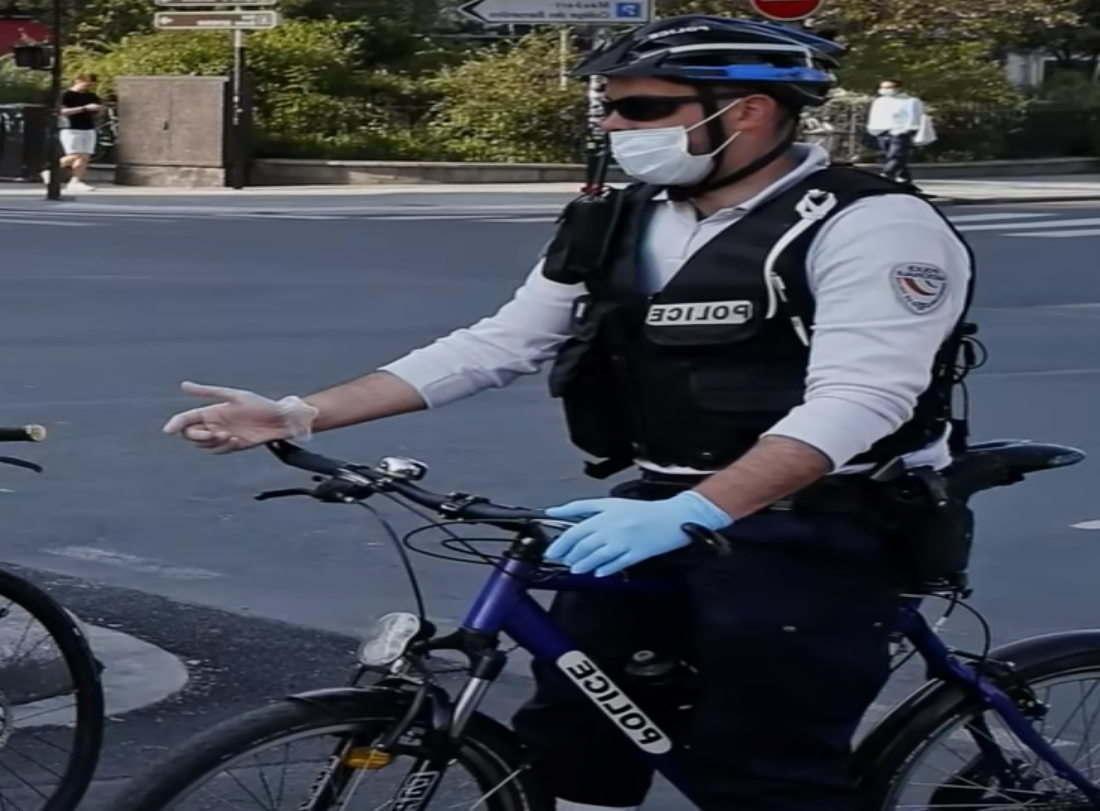mask_weared_incorrect: (588, 22, 822, 196)
